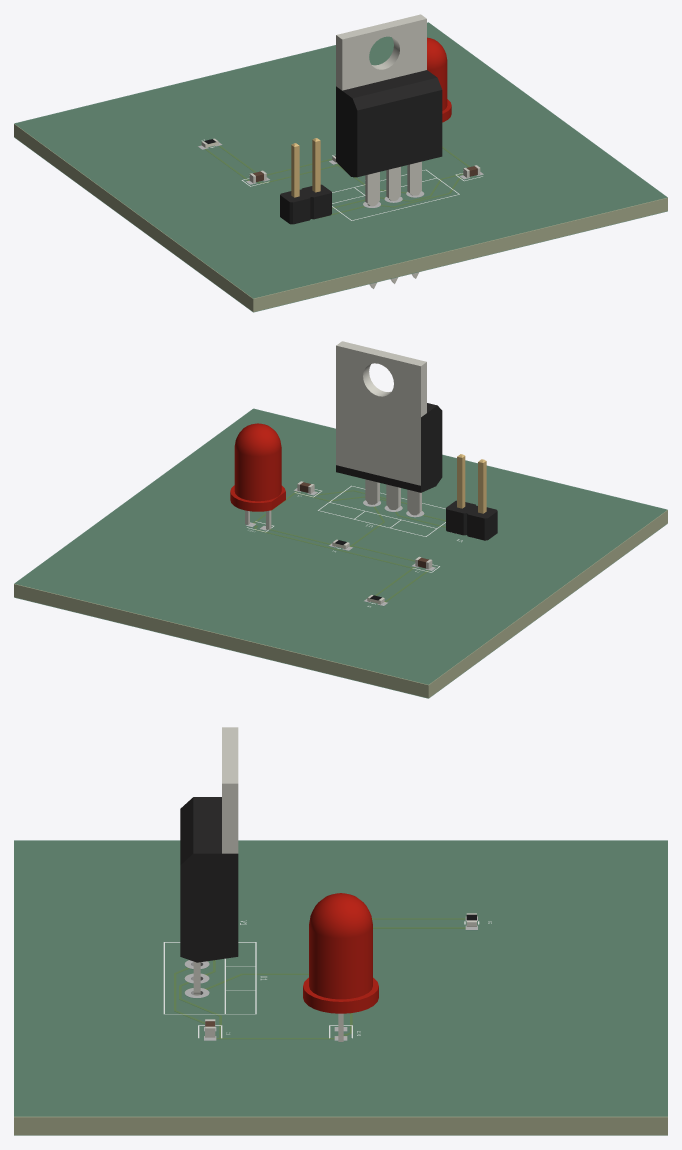
Rendered from regulator-5v.glb.
3 views of the same model, one above another, from view 1: azimuth 30°, elevation 25°; view 2: azimuth 150°, elevation 25°; view 3: azimuth 270°, elevation 25° (orthographic). The views are drawn at different scales.
Visible parts, largest first — view 1: =>[0:1:1:17], =>[0:1:1:15], =>[0:1:1:5], =>[0:1:1:3], =>[0:1:1:11], =>[0:1:1:16], =>[0:1:1:14]; view 2: =>[0:1:1:17], =>[0:1:1:15], =>[0:1:1:5], =>[0:1:1:11], =>[0:1:1:3], =>[0:1:1:16], =>[0:1:1:14]; view 3: =>[0:1:1:17], =>[0:1:1:15], =>[0:1:1:5], =>[0:1:1:11], =>[0:1:1:14], =>[0:1:1:13], =>[0:1:1:16], =>[0:1:1:12].
Part boxes in pixels (x1,y1,x2,y2): =>[0:1:1:17]: [14, 23, 667, 311]; =>[0:1:1:15]: [14, 22, 667, 298]; =>[0:1:1:5]: [336, 14, 442, 288]; =>[0:1:1:3]: [280, 138, 331, 224]; =>[0:1:1:11]: [427, 37, 451, 122]; =>[0:1:1:16]: [14, 137, 667, 312]; =>[0:1:1:14]: [201, 139, 482, 220]; =>[0:1:1:17]: [14, 409, 667, 698]; =>[0:1:1:15]: [14, 408, 667, 684]; =>[0:1:1:5]: [336, 341, 442, 515]; =>[0:1:1:11]: [230, 423, 285, 529]; =>[0:1:1:3]: [446, 454, 497, 540]; =>[0:1:1:16]: [14, 523, 667, 698]; =>[0:1:1:14]: [247, 485, 462, 607]; =>[0:1:1:17]: [14, 841, 667, 1135]; =>[0:1:1:15]: [14, 840, 667, 1116]; =>[0:1:1:5]: [180, 727, 238, 995]; =>[0:1:1:11]: [303, 893, 378, 1041]; =>[0:1:1:14]: [163, 920, 491, 1038]; =>[0:1:1:13]: [184, 916, 477, 1040]; =>[0:1:1:16]: [14, 1135, 667, 1135]; =>[0:1:1:12]: [174, 928, 464, 1038].
Size of the model in its own units: 0.05 by 0.0285 by 0.05.
